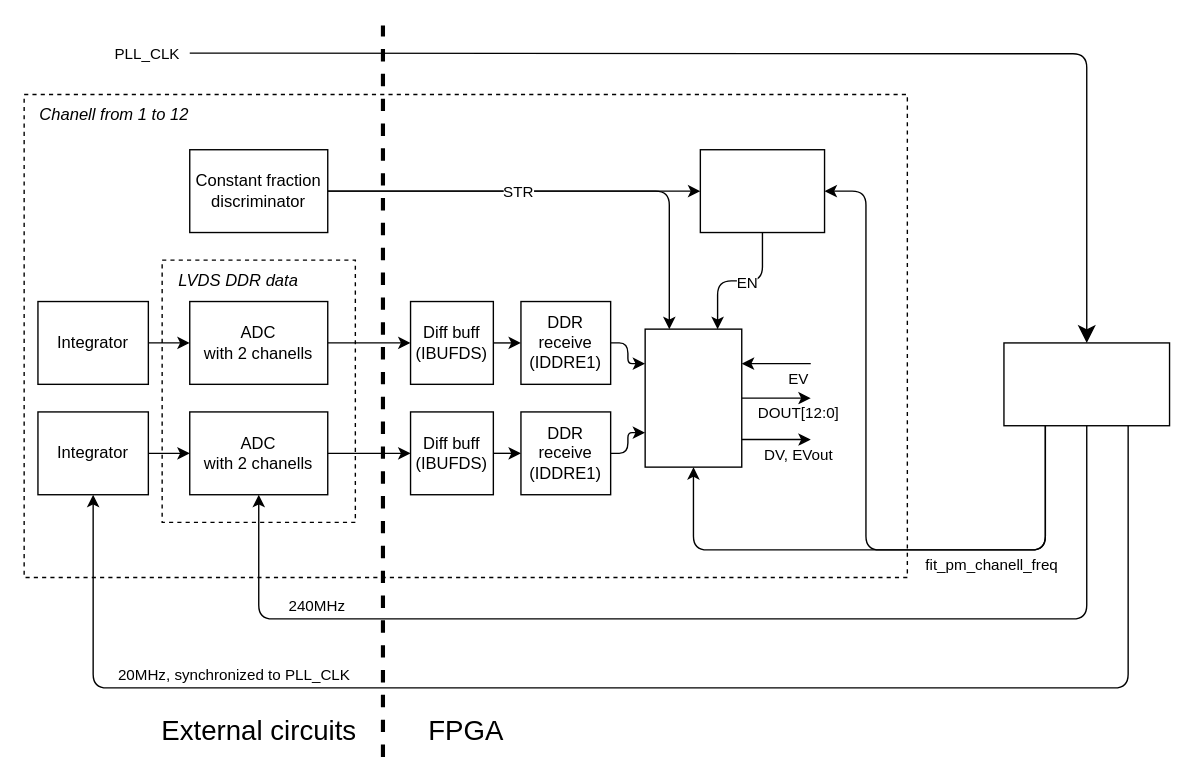
Some shapes in this 1194 by 784 pixel diagram are drawn without their labels. The shapes that lost their labels are listed below. From the top down, each one's centre as x and y in pixels, then its label:
the point at 762,190: Time gate circuit
the point at 693,397: fit_pm chanell logic
the point at 1086,384: MMCM
